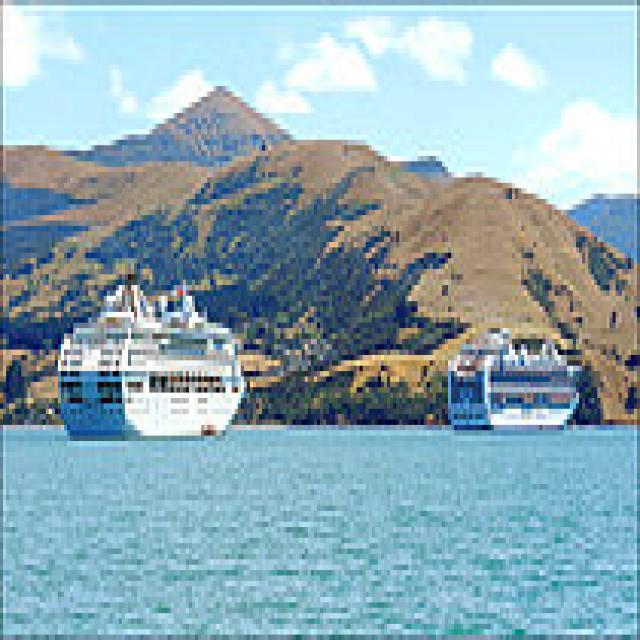Ship: (53, 276, 251, 448), (440, 313, 590, 448)
